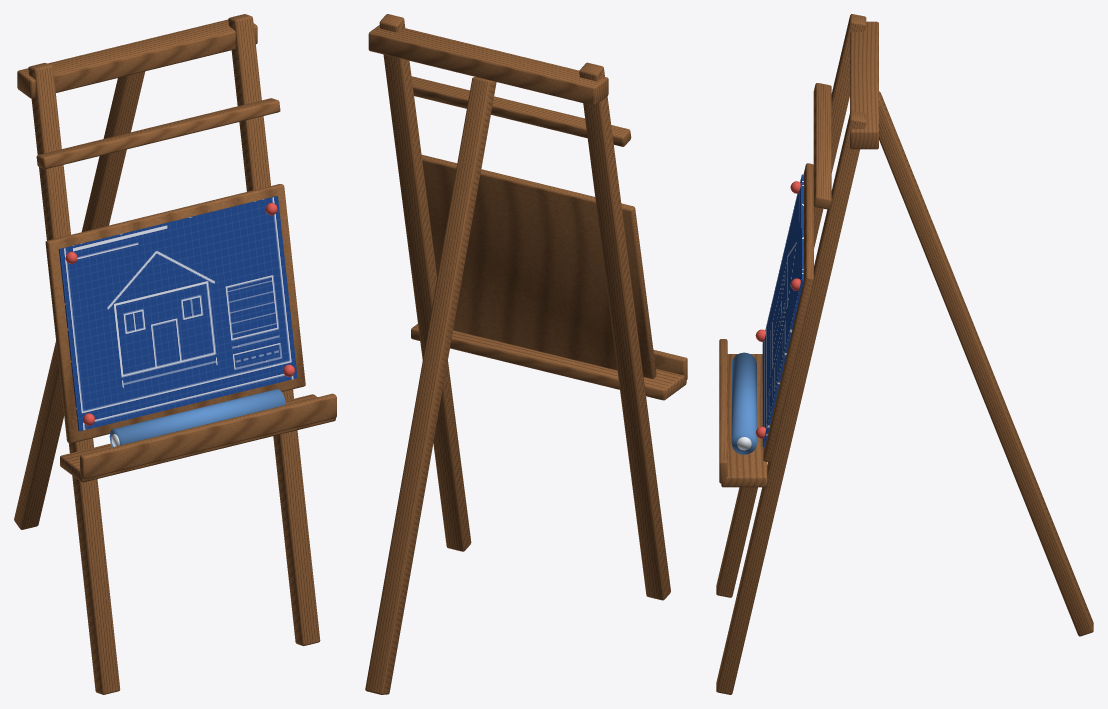
Rendered from ShedBlueprint.glb.
3 renders of one model, left to right at view 1: azimuth 30°, elevation 25°; view 2: azimuth 150°, elevation 25°; view 3: azimuth 270°, elevation 25°, orthographic.
Parts seen in each view (by area): view 1: ShedBlueprint; view 2: ShedBlueprint; view 3: ShedBlueprint.
Part boxes in pixels (<box>): ShedBlueprint: <box>14,14,336,694</box>; ShedBlueprint: <box>365,14,687,694</box>; ShedBlueprint: <box>716,14,1093,694</box>.
Size of the model in its own units: 1.4 by 3.04 by 1.81.
Materials: 6 (2 with a texture image).
